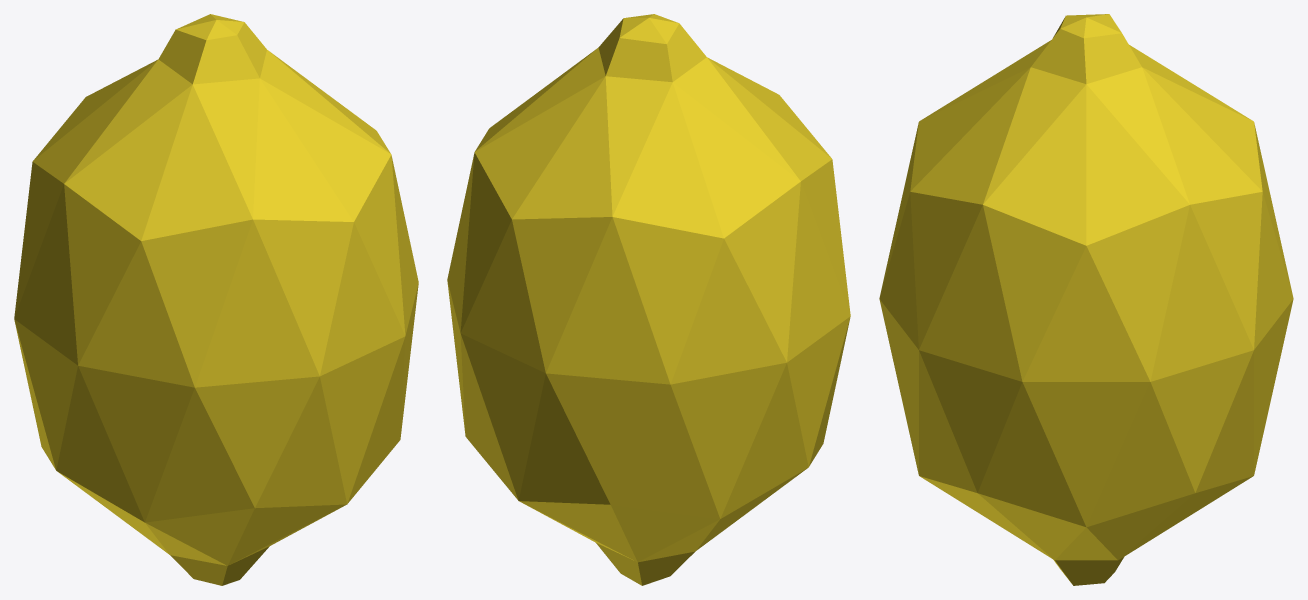
The model's file is Lemon_01.fbx.
The picture shows the model from 3 angles, left to right: view 1: azimuth 30°, elevation 25°; view 2: azimuth 150°, elevation 25°; view 3: azimuth 270°, elevation 25°; orthographic projection.
Visible parts, largest first — view 1: Lemon_01; view 2: Lemon_01; view 3: Lemon_01.
Boxes of the visible parts, bbox=[...] form: Lemon_01: bbox=[14, 14, 418, 585]; Lemon_01: bbox=[447, 14, 850, 585]; Lemon_01: bbox=[879, 14, 1293, 585].
Bounding box in the file's own units: 7.32 × 11.58 × 7.7.
